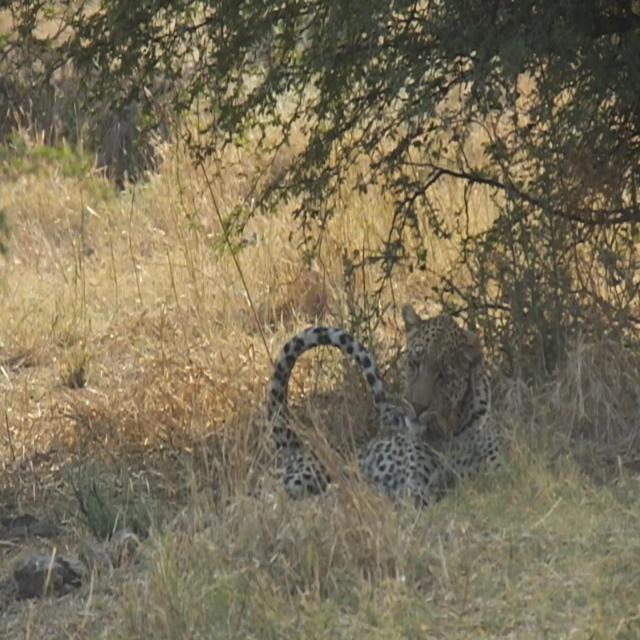Leopard: (164, 309, 541, 542)
